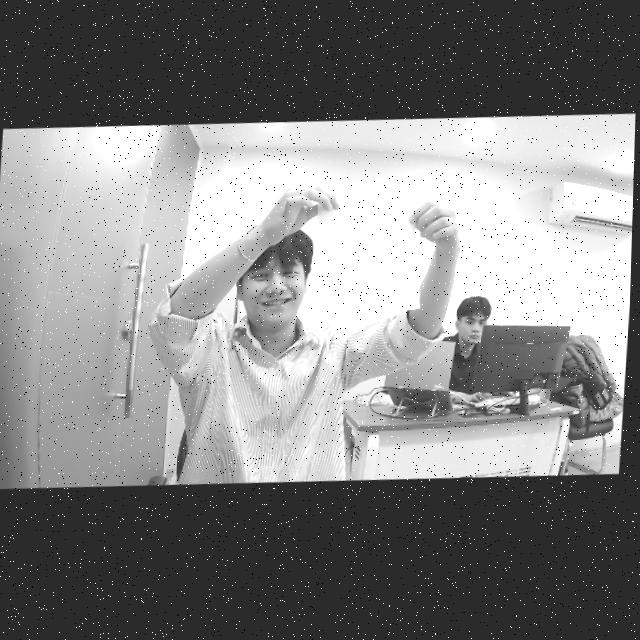face: (235, 256, 304, 334), (458, 312, 491, 343)
